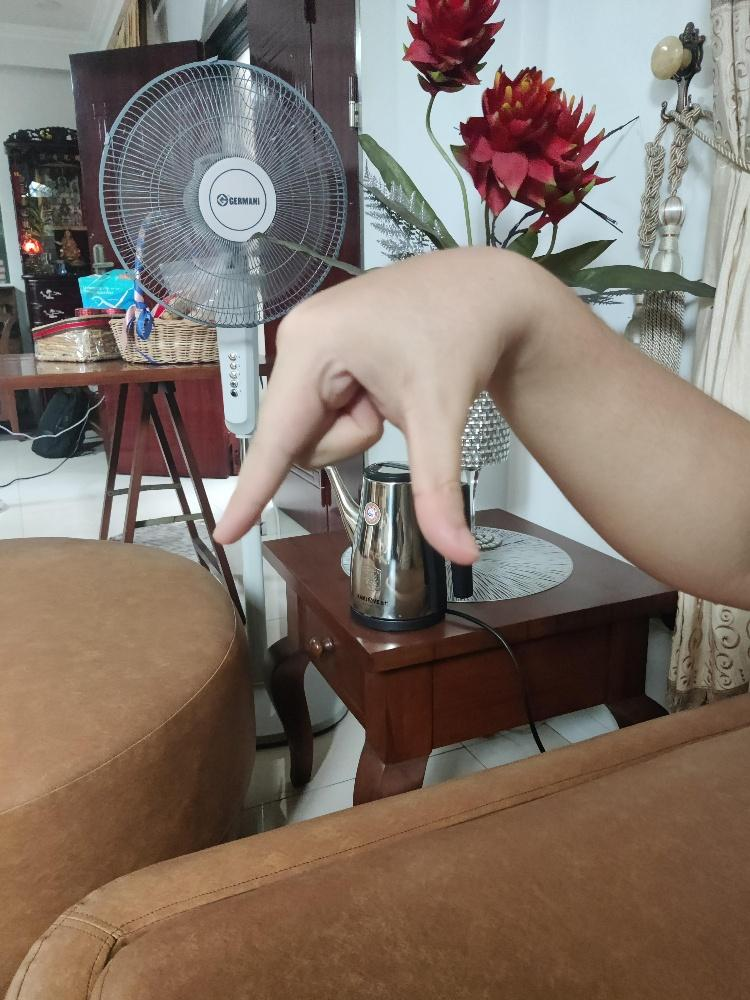q: (210, 243, 525, 565)
